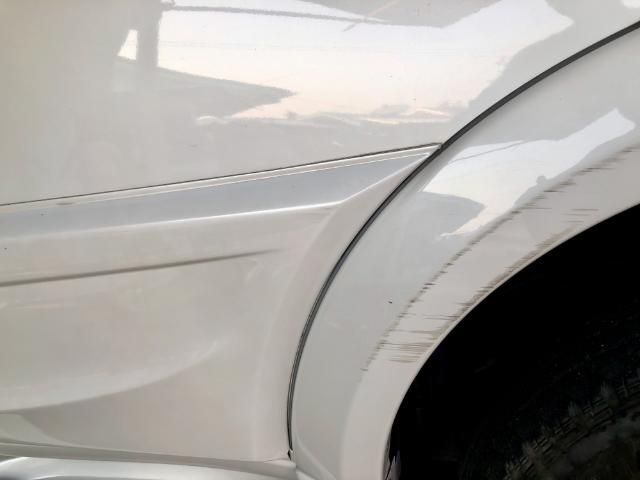scratch: (357, 132, 640, 373)
